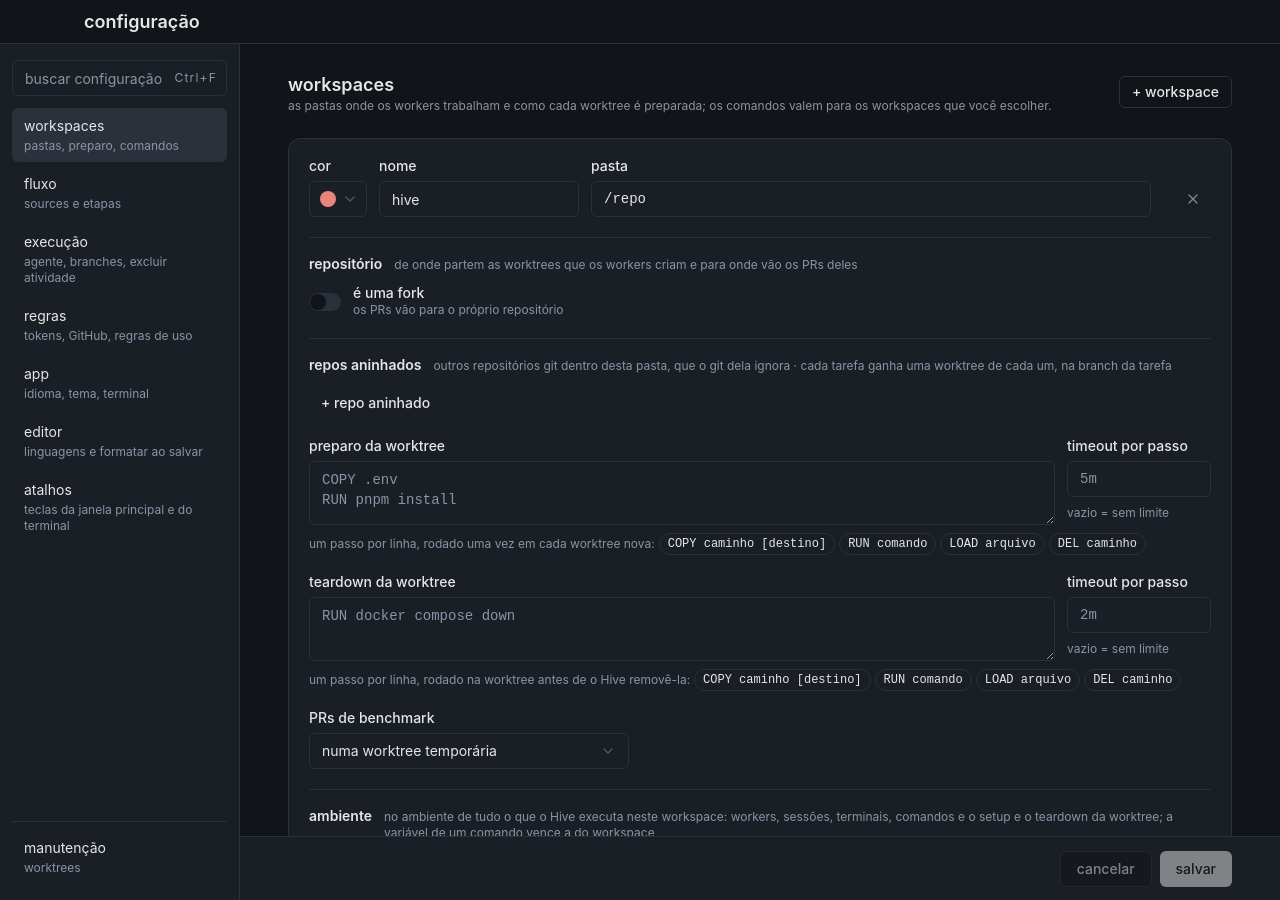
Scenario: the base branch field shows the saved value and the edited one reaches POST /settings, trimmed (#119)
Click the button "execução" at (120, 259), box 12,224 -> 227,294
(page scrolled)
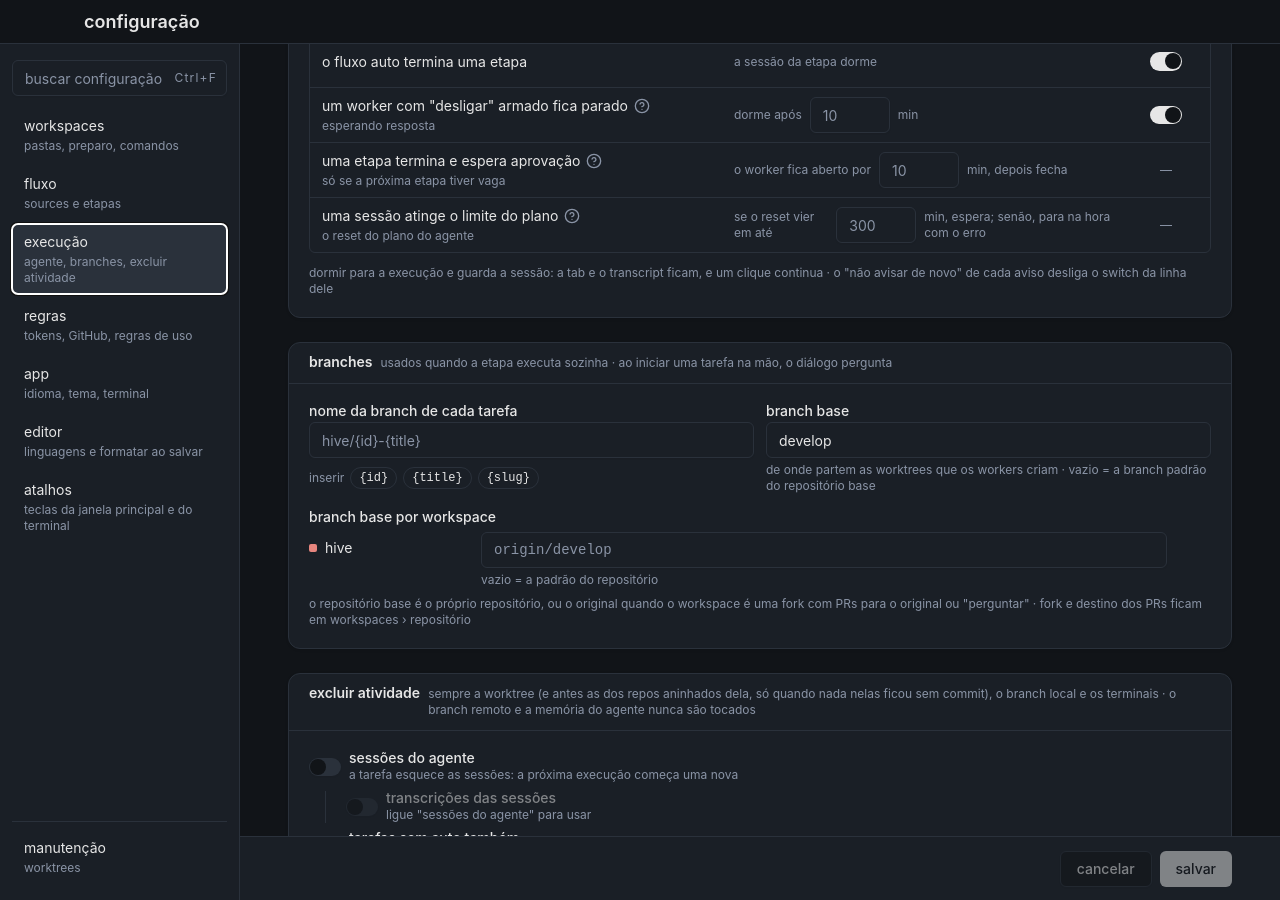
Expected: the field labelled "branch base" holds "develop"
Replace the text in the field labelled "branch base" with " release " at (988, 440), box 766,422 -> 1211,458
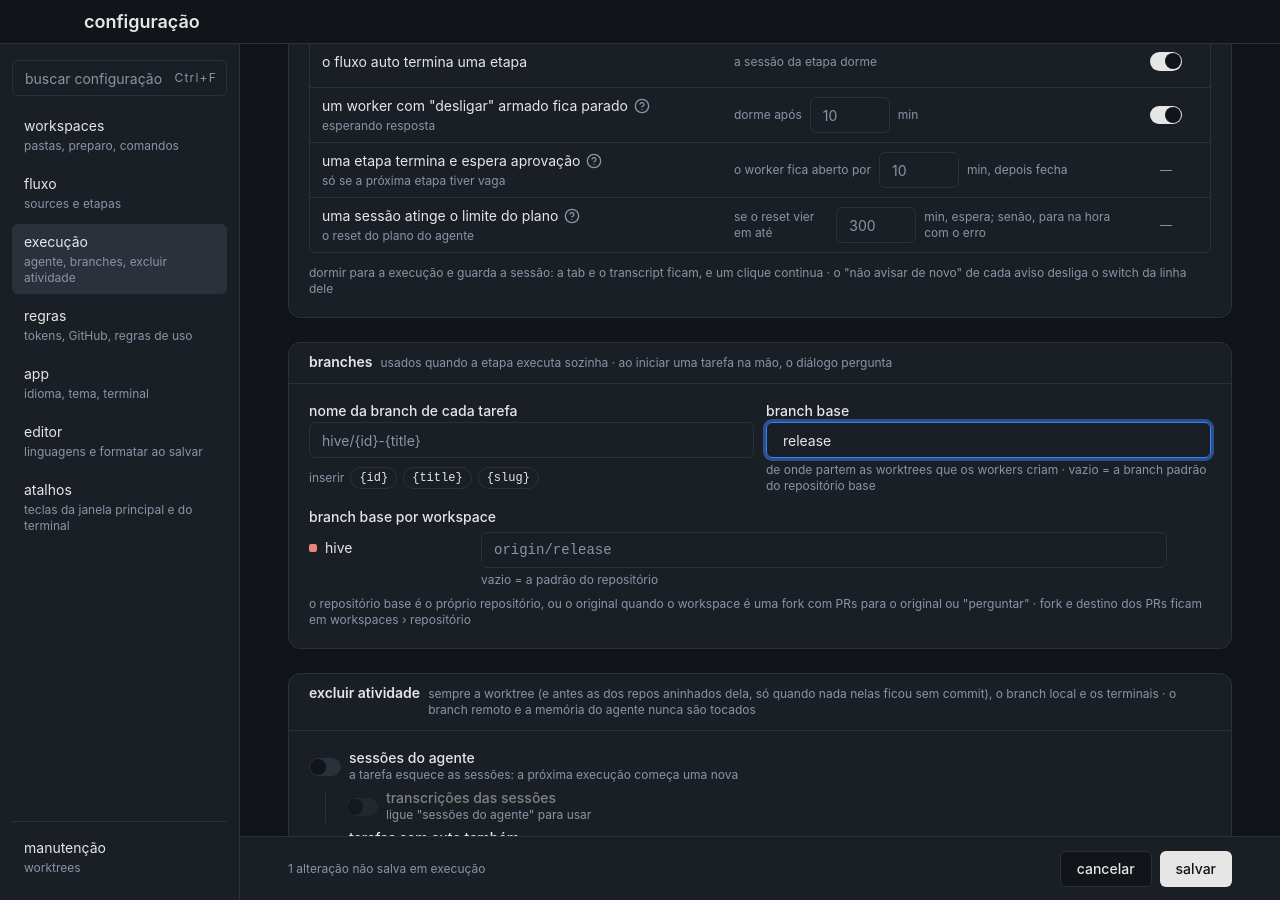
Click the button "salvar" at (1196, 868), box 1160,850 -> 1232,886
(page scrolled)
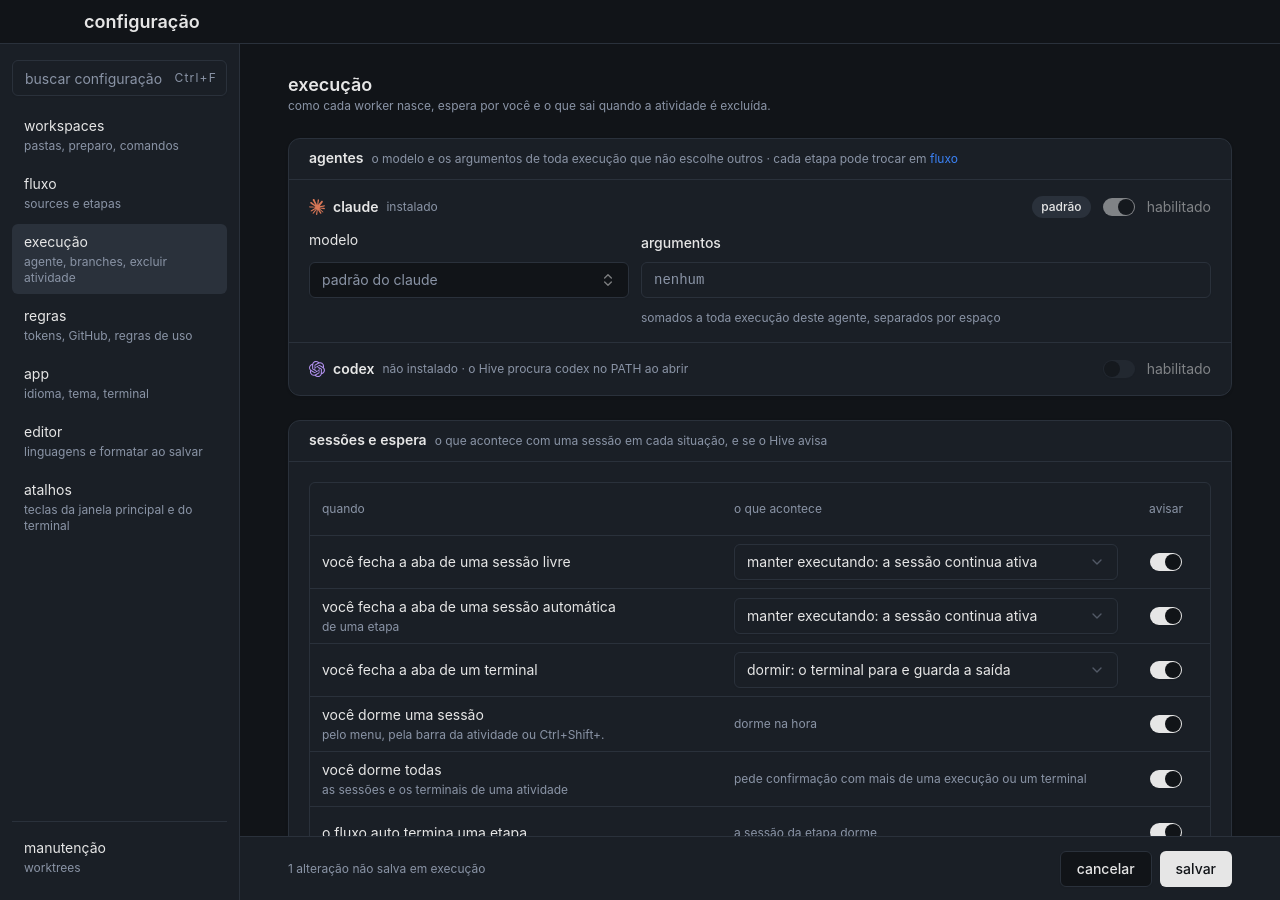
Expected: the text "claude" is shown, 333,197 -> 378,217
